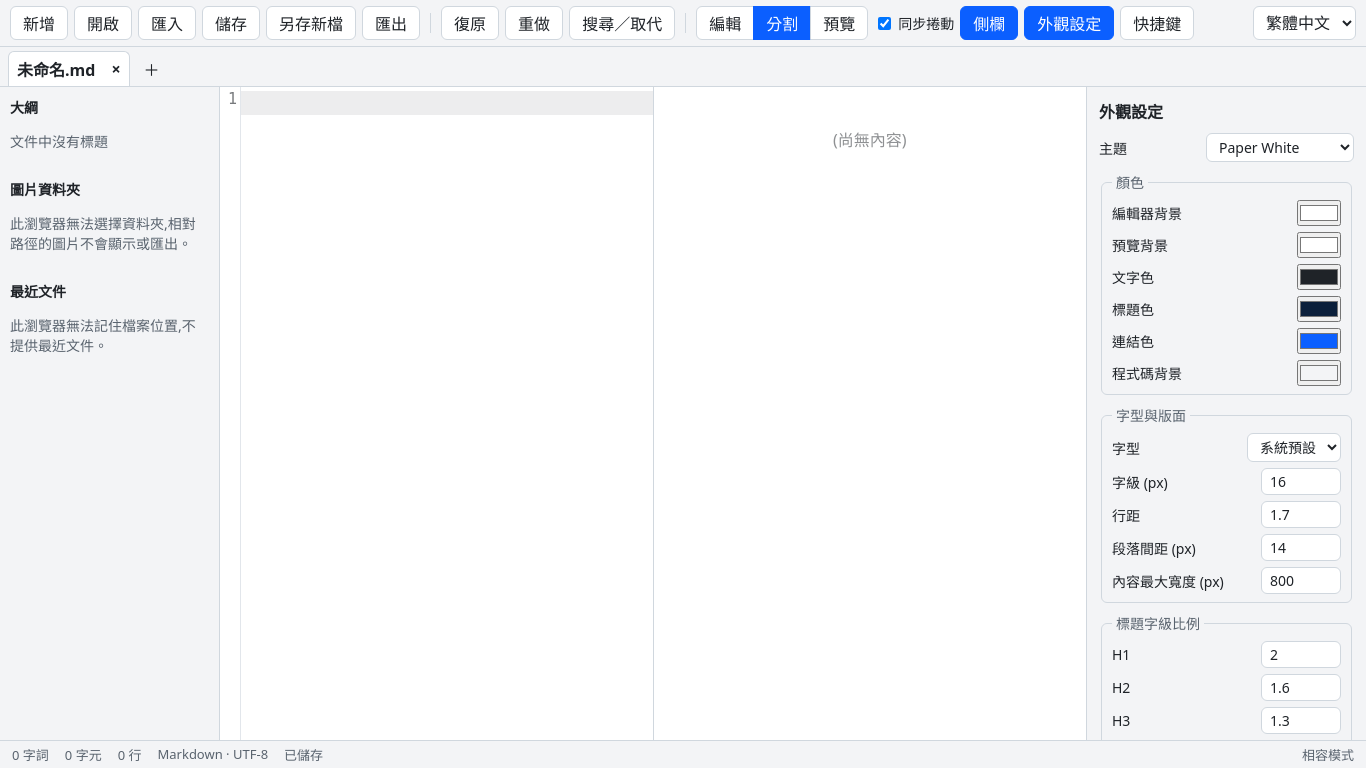
Test: closing tabs › closes a clean tab immediately and activates a neighbour
This screenshot has width=1366, height=768.
Click the button "開啟" at coordinates (103, 23), box [74,6,132,40]
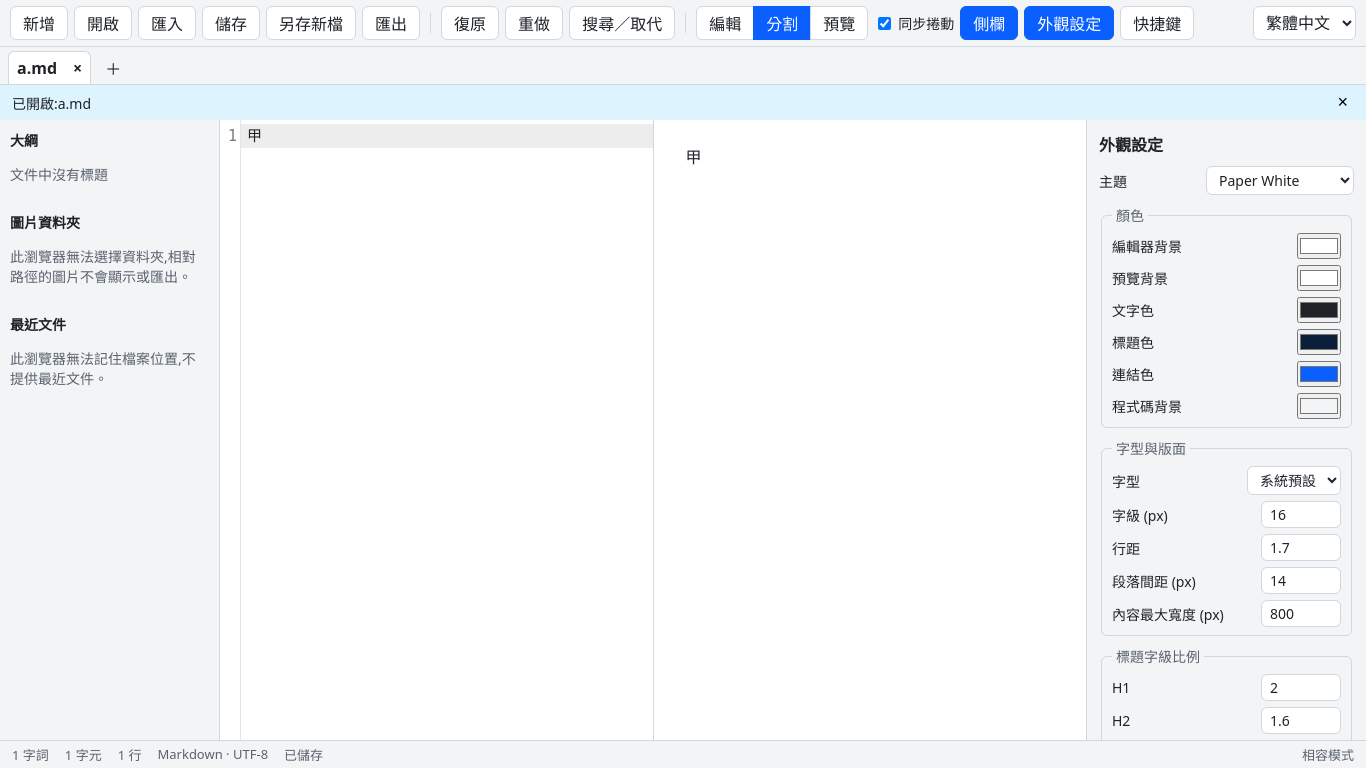
Click the button "開啟" at coordinates (103, 23), box [74,6,132,40]
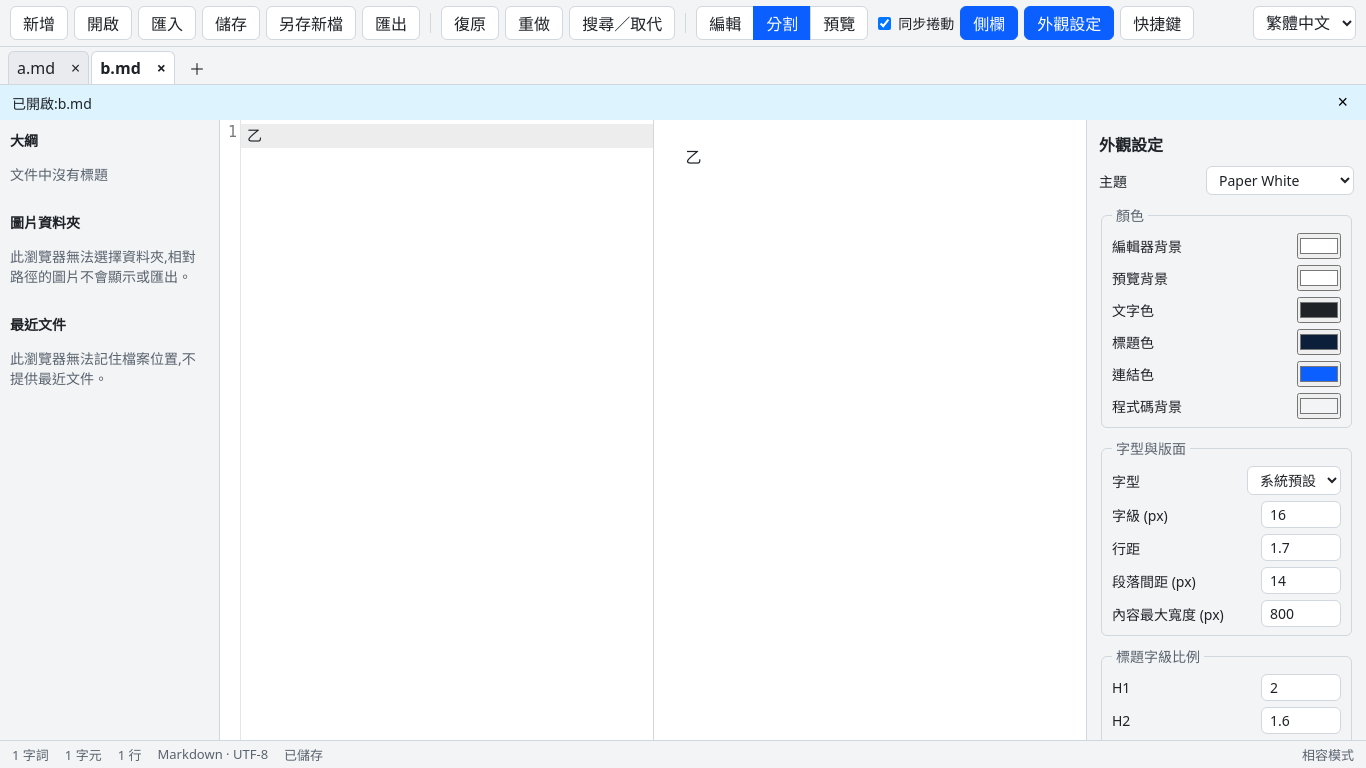
Click the button named "關閉 b.md" at coordinates (161, 68), box [149,52,174,84]
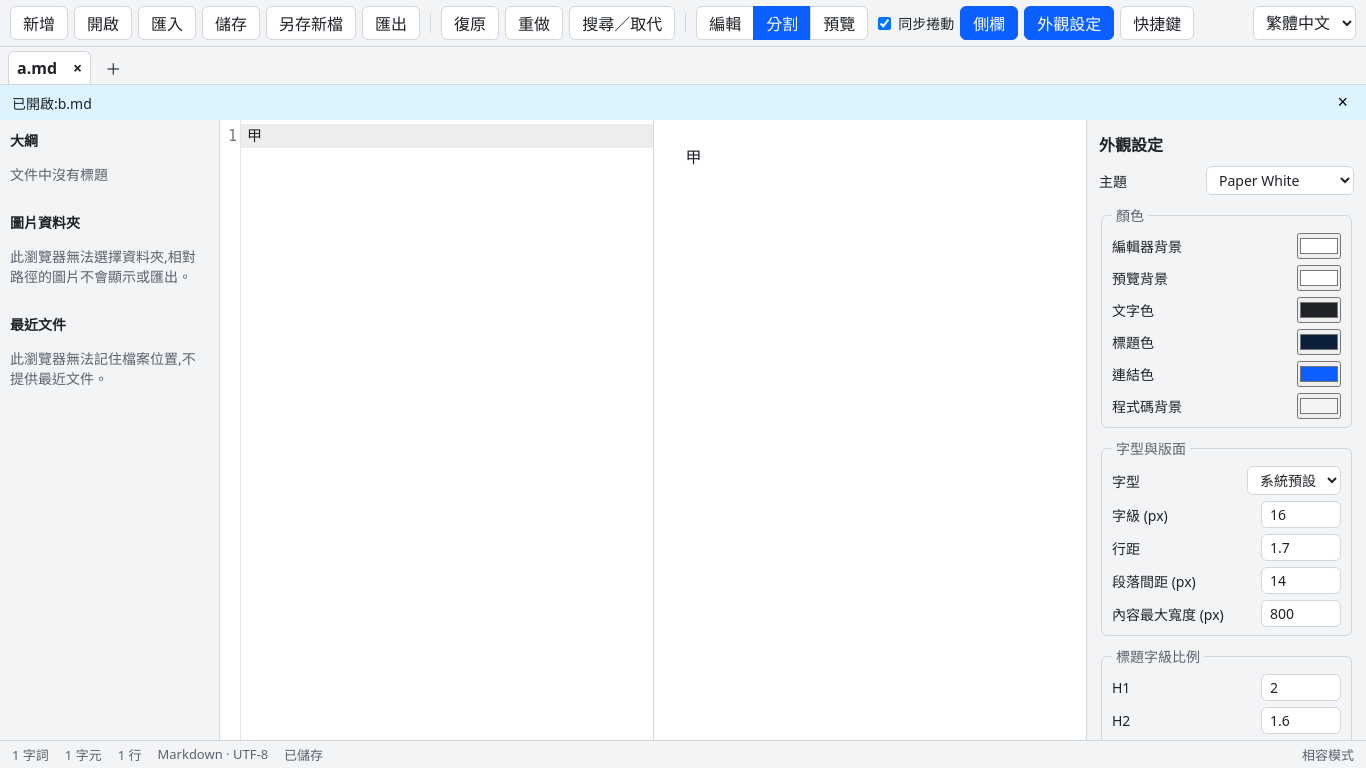
Now the number of buttons named "關閉 " is 1, box [65,52,90,84]
